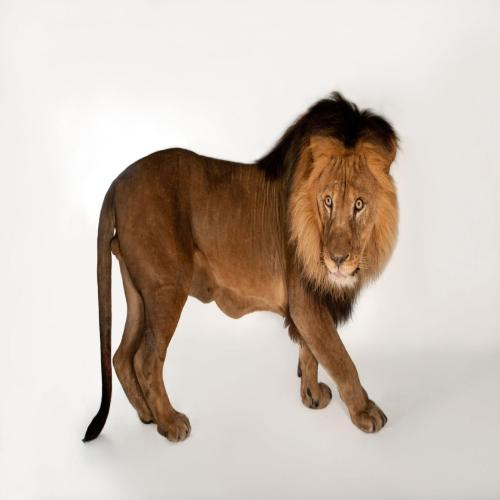lion-endangered: (83, 93, 400, 445)
